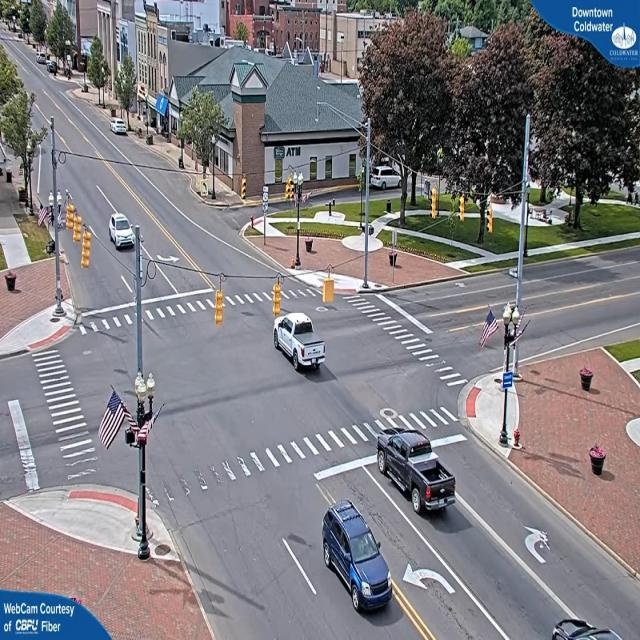car: (322, 502, 394, 616), (378, 429, 458, 518), (274, 314, 324, 372), (555, 623, 639, 640), (110, 213, 136, 249), (111, 120, 129, 136)
